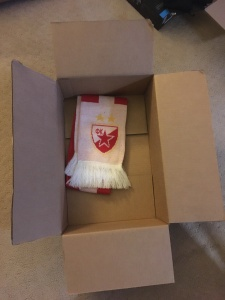innerbox: (56, 80, 168, 227)
outerbox: (12, 22, 225, 291)
product: (67, 93, 128, 193)
